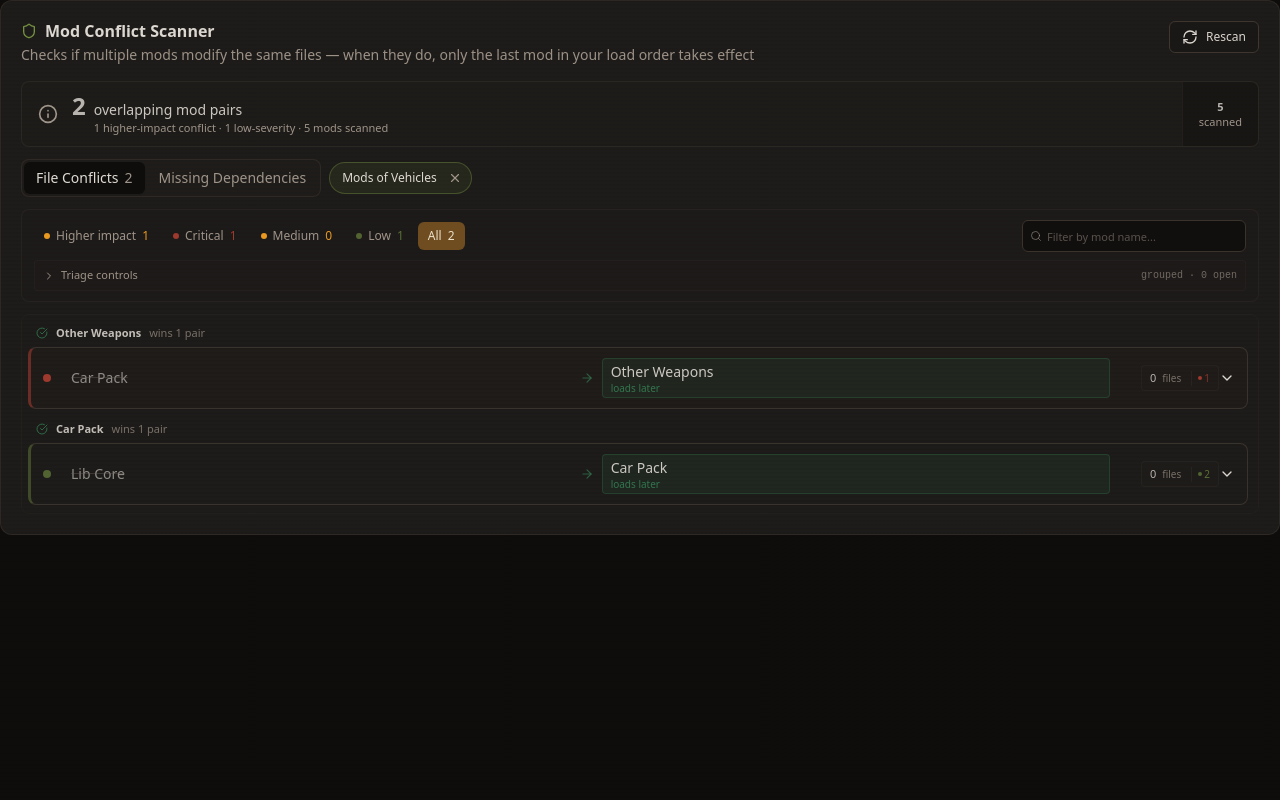
Test: ConflictsPanel focused on a mod group › shows only the pairs touching the group, on every severity, until the chip clears it
Expected: the text "Mods of Vehicles" is shown, [329,162,472,194]
Expected: the text "Mod Yankee" is not shown
What coordinates should you click on to do the following:
click the button named "Show every conflict again (stop filtering on Vehicles)"
I would click on:
 (455, 178)
Its box is [441,164,469,192].
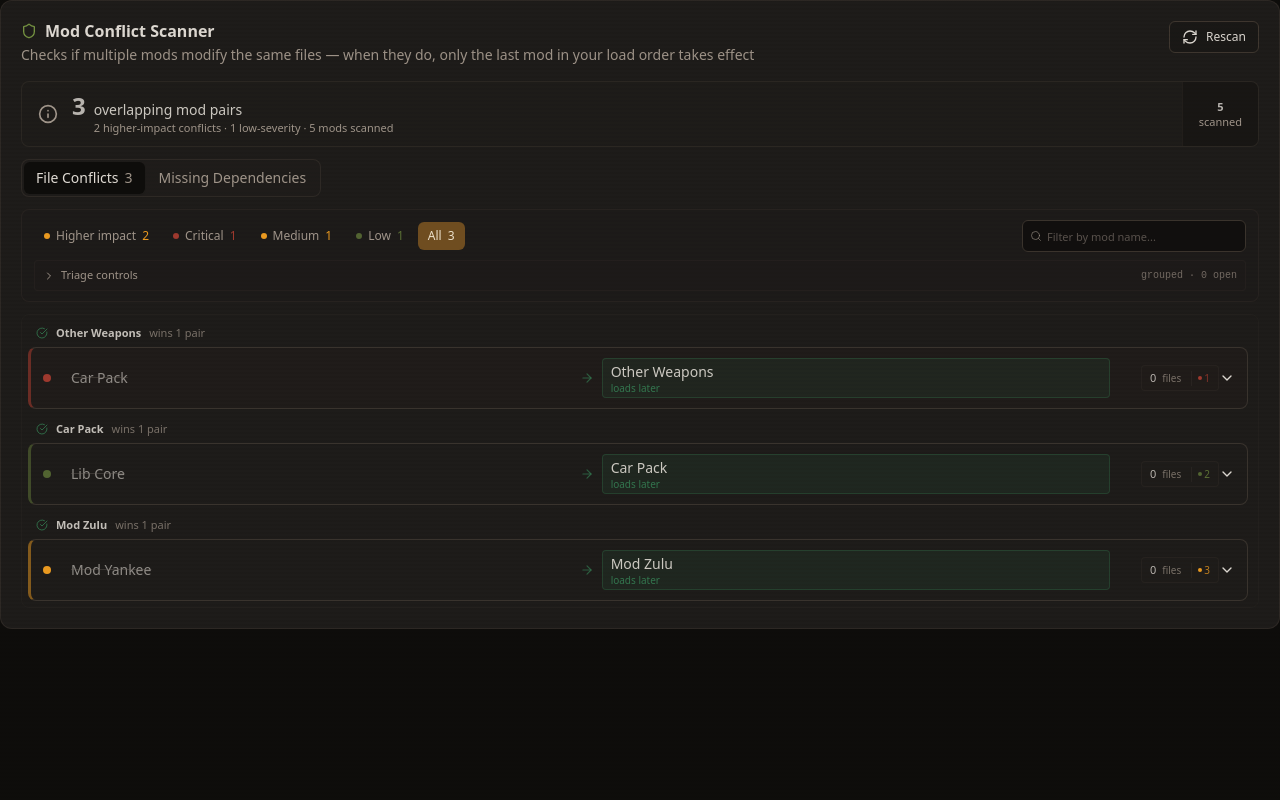
Now the text "Mods of Vehicles" is gone
Now the radio button labelled "File Conflicts 3" is shown, box [24,162,144,194]
